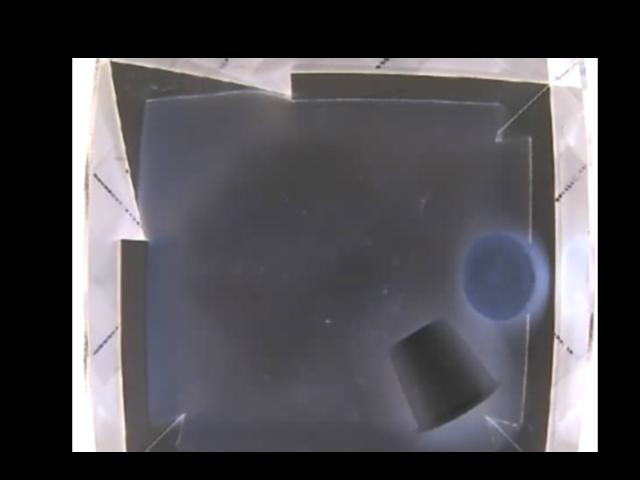Cup: (387, 318, 501, 435)
Mooli: (462, 234, 544, 326)
